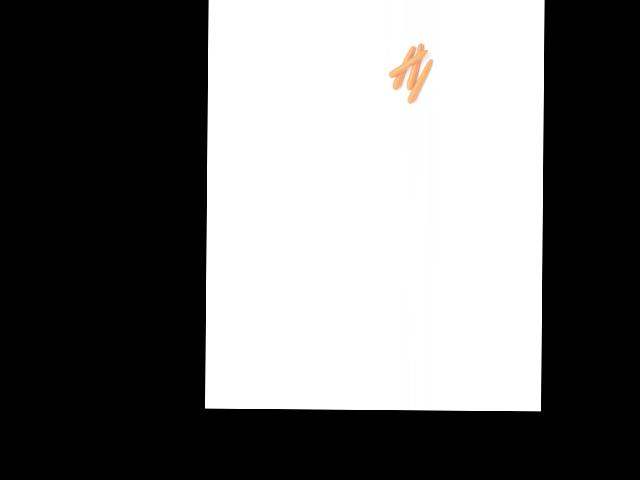carrot: (390, 45, 414, 93)
